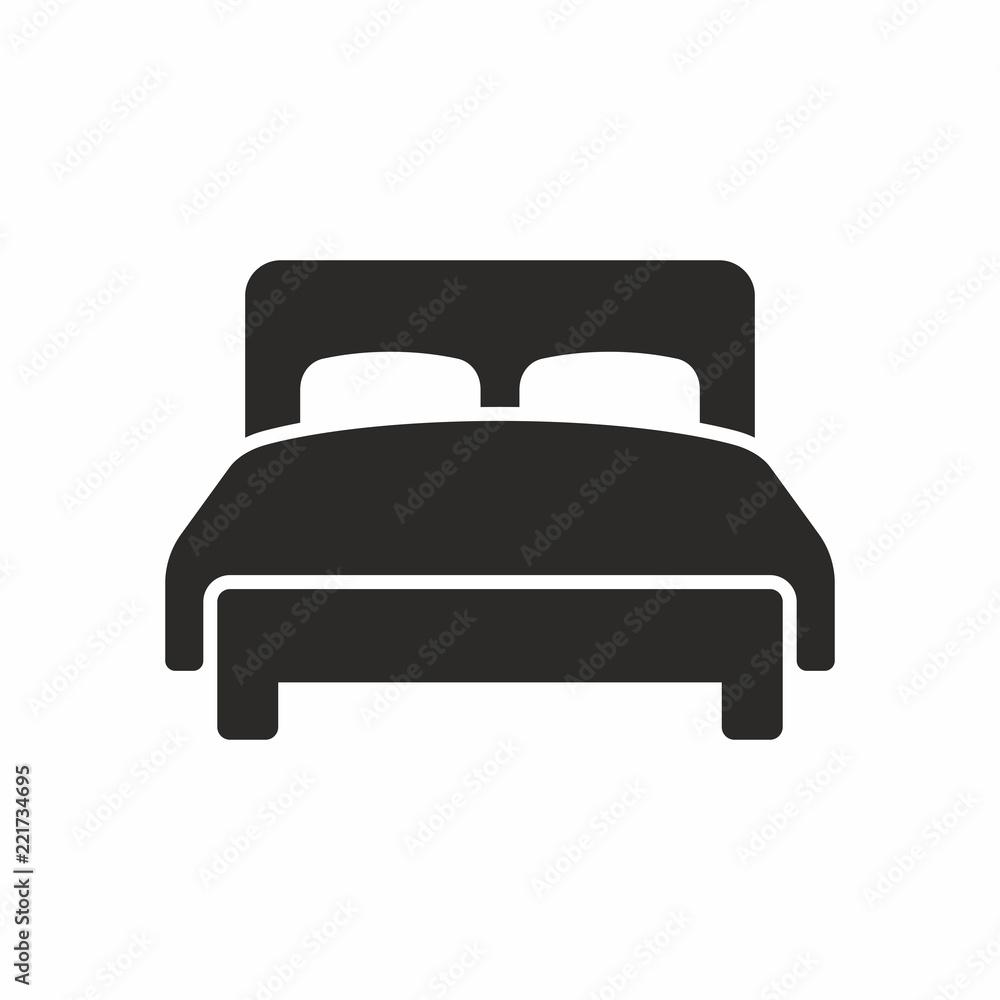bed: (127, 248, 878, 738)
